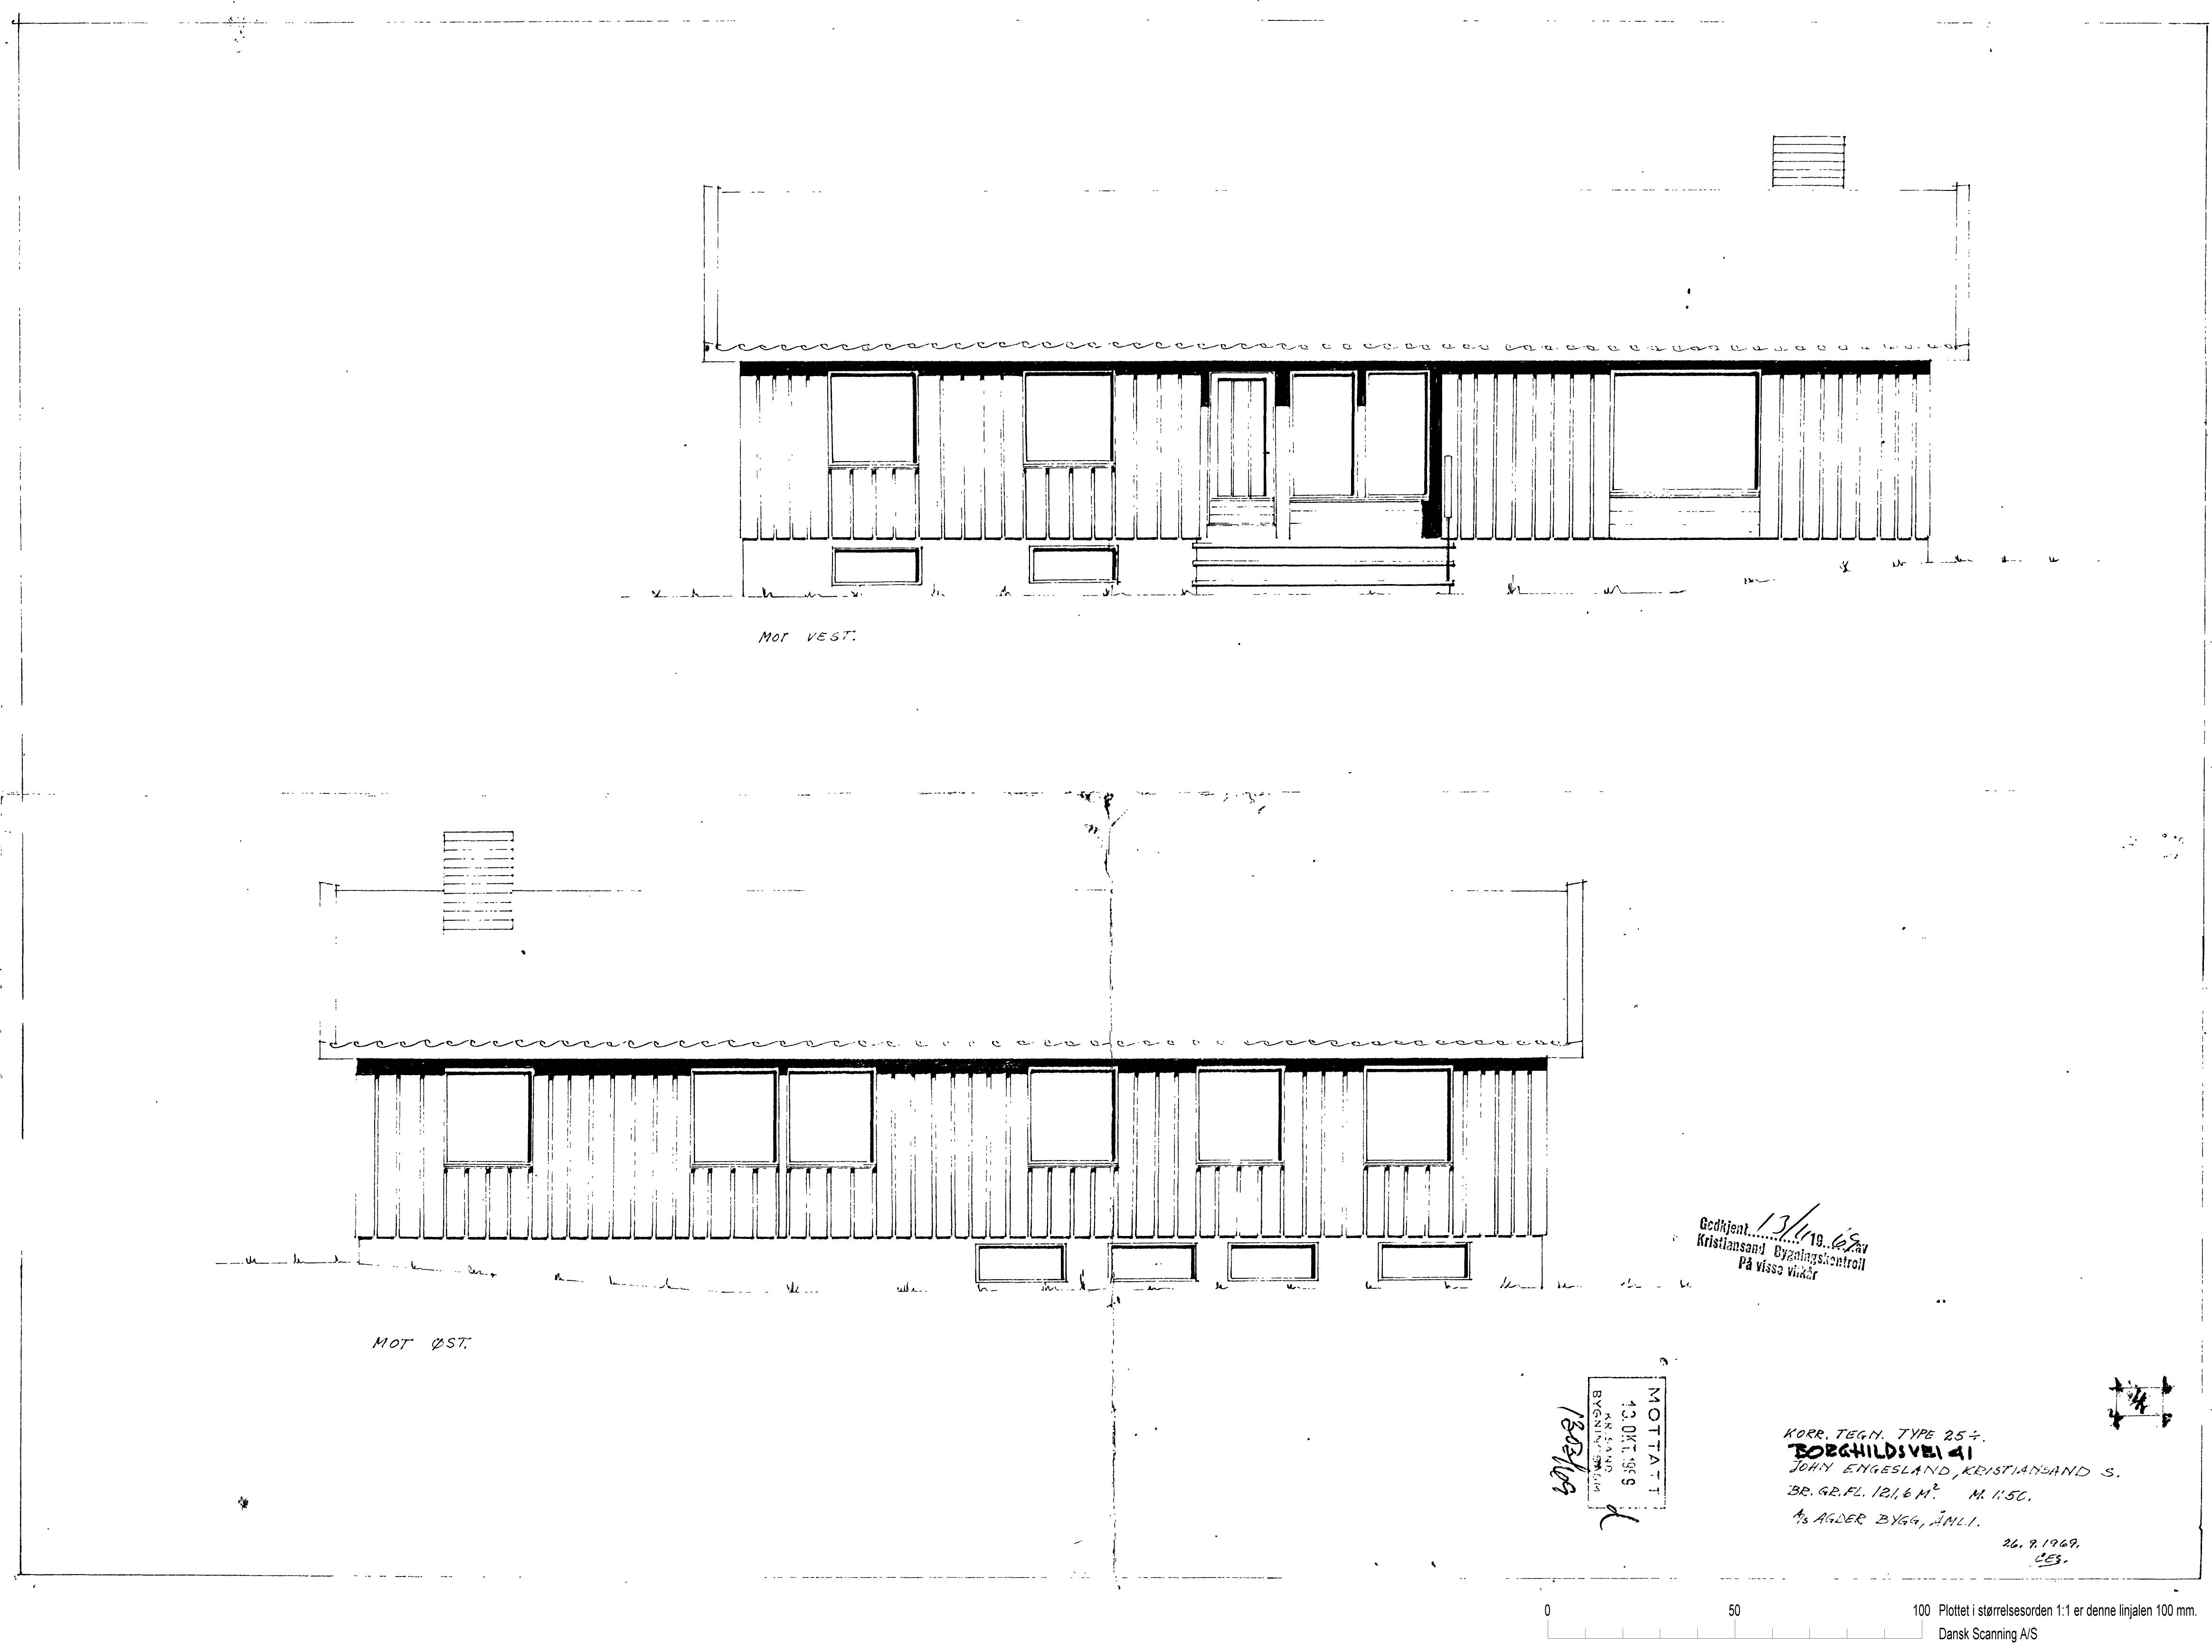fasade: (671, 122, 2026, 628), (283, 810, 1610, 1326)
